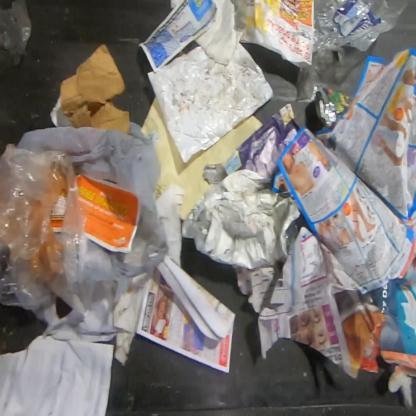cardboard: (48, 42, 131, 135), (78, 173, 142, 255)
metal: (314, 86, 352, 130)
soft_plastic: (16, 121, 168, 318), (146, 42, 274, 164), (0, 142, 90, 312), (294, 0, 408, 103), (0, 0, 34, 69)
